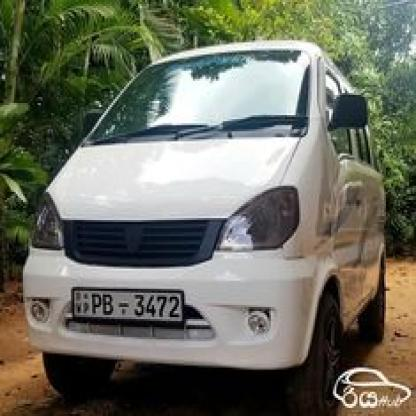car front: (14, 36, 389, 409)
number plate: (70, 286, 186, 326)
